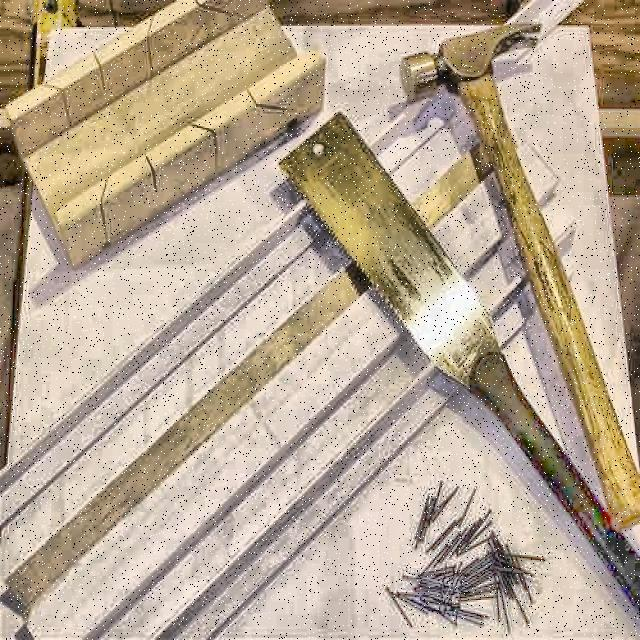hammer: (400, 19, 640, 527)
